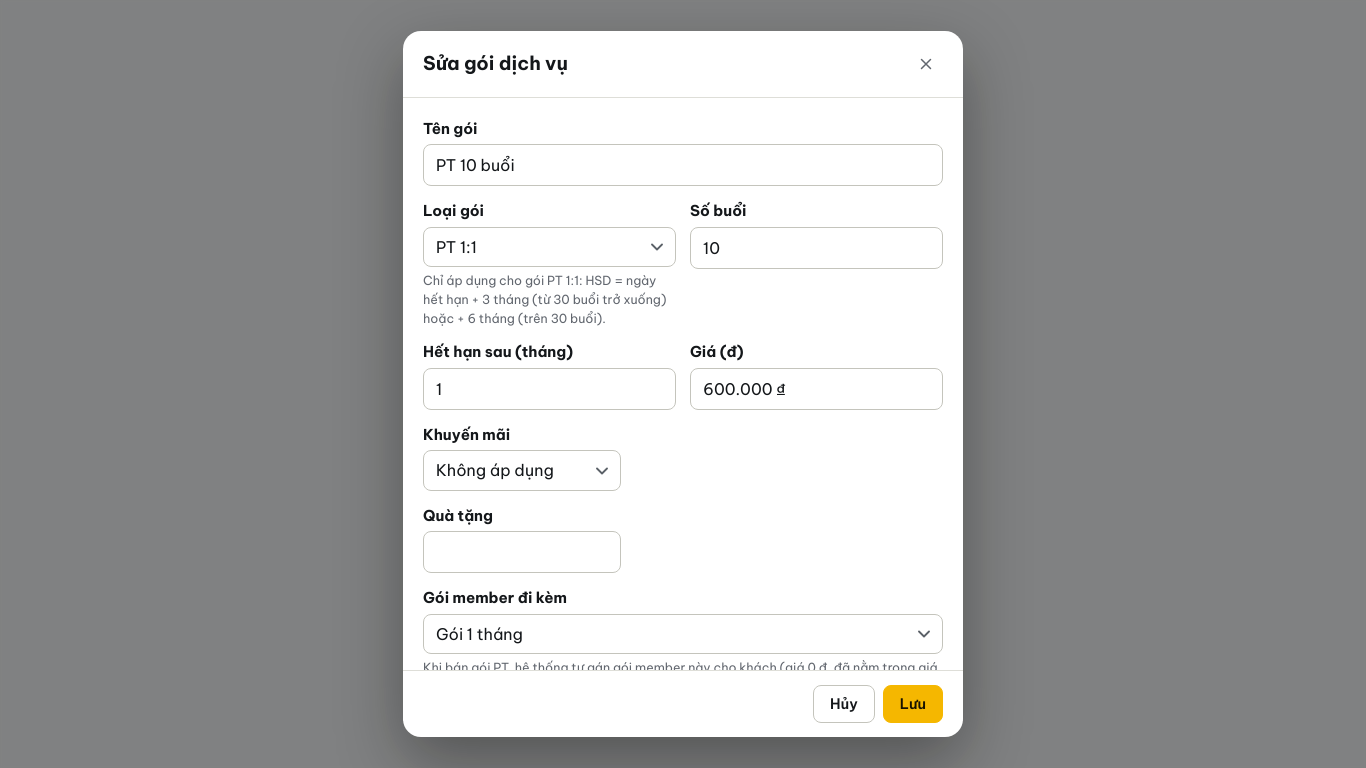
Test: Packages page › Sửa asks to save as a new package and deactivates the old one
Later steps or results of the test are not shown.
Replace the text in the field labelled "Giá (đ)" with "3300000" at {"x": 816, "y": 389}, box [690,368,943,410]
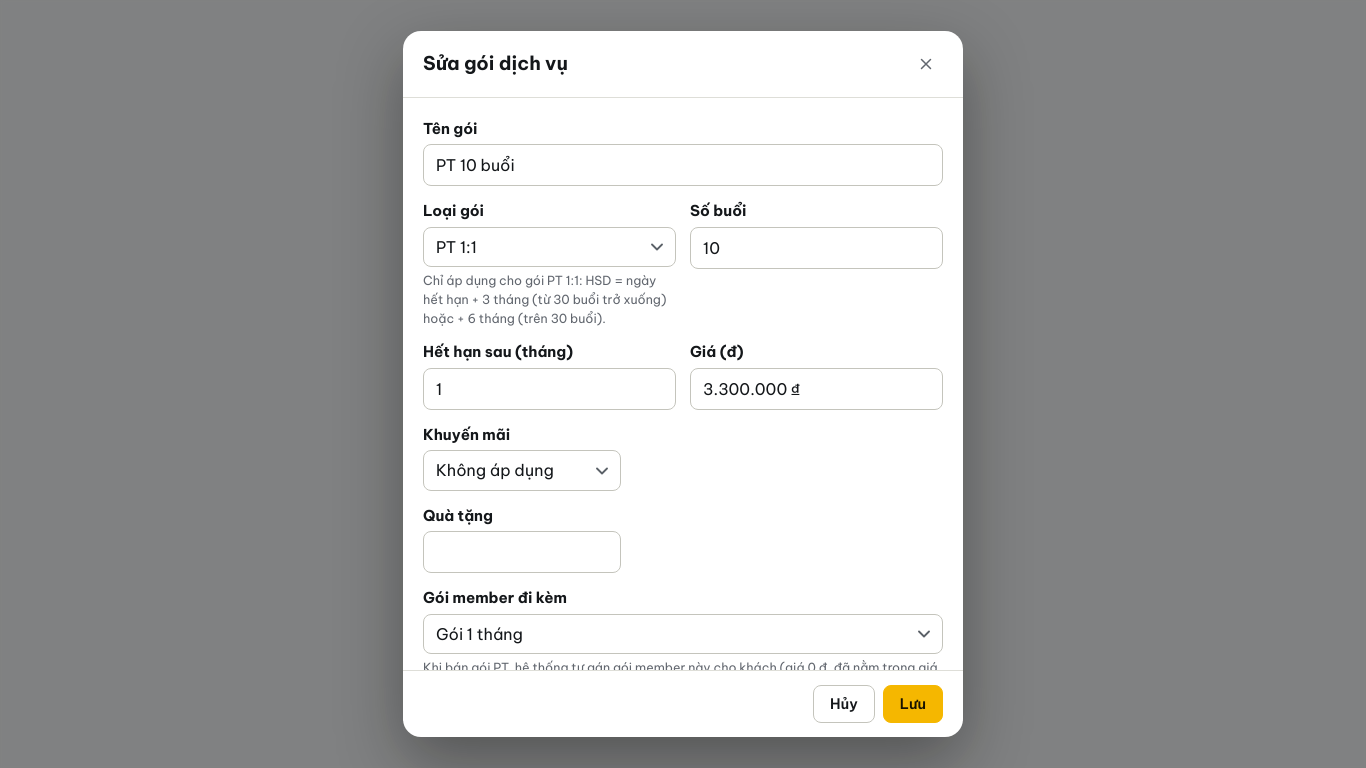
Click the button "Lưu" at {"x": 913, "y": 704}, box [883,685,943,723]
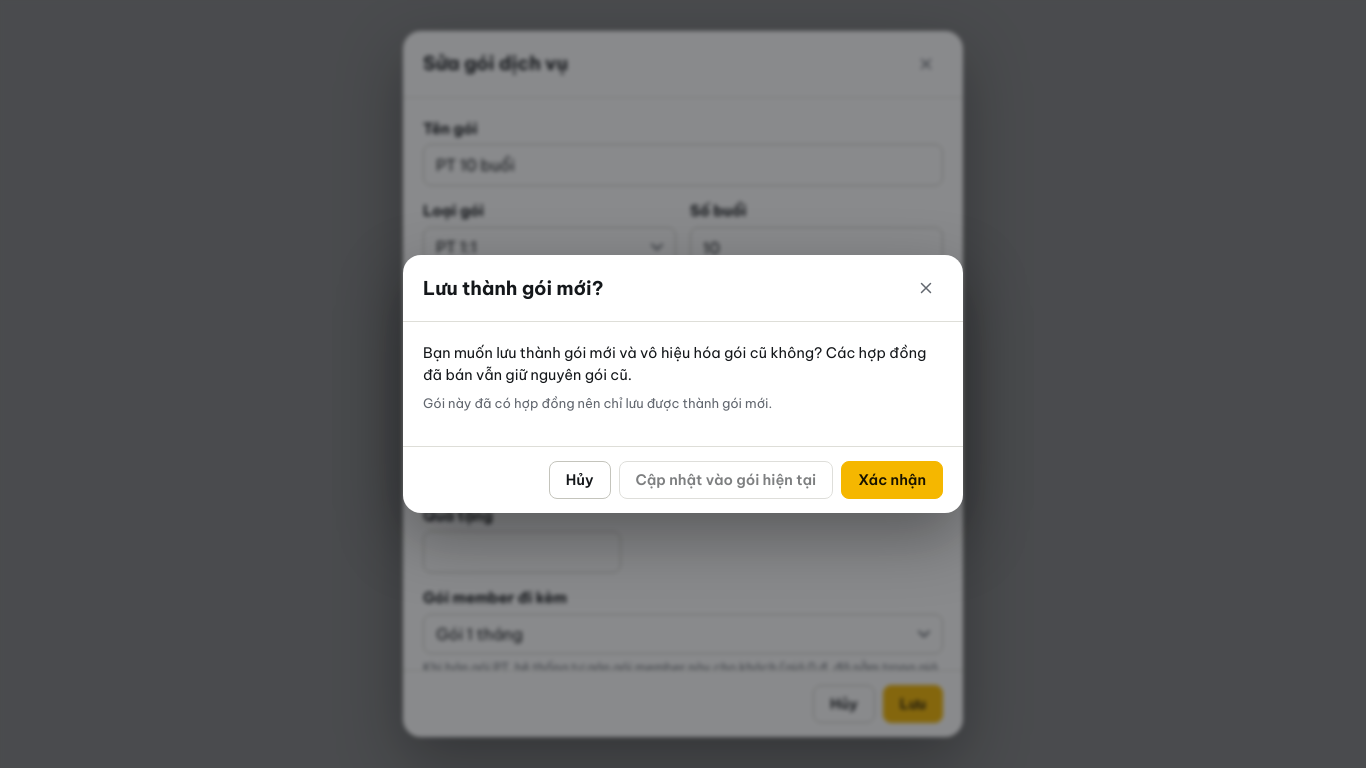
Expected: the text "lưu thành gói mới và vô hiệu hóa gói cũ" is shown, [423,343,926,384]
